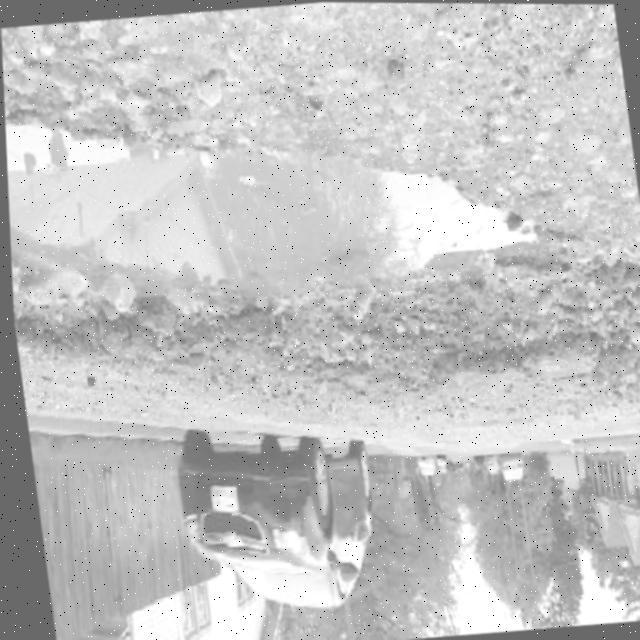pothole: (2, 48, 640, 409)
